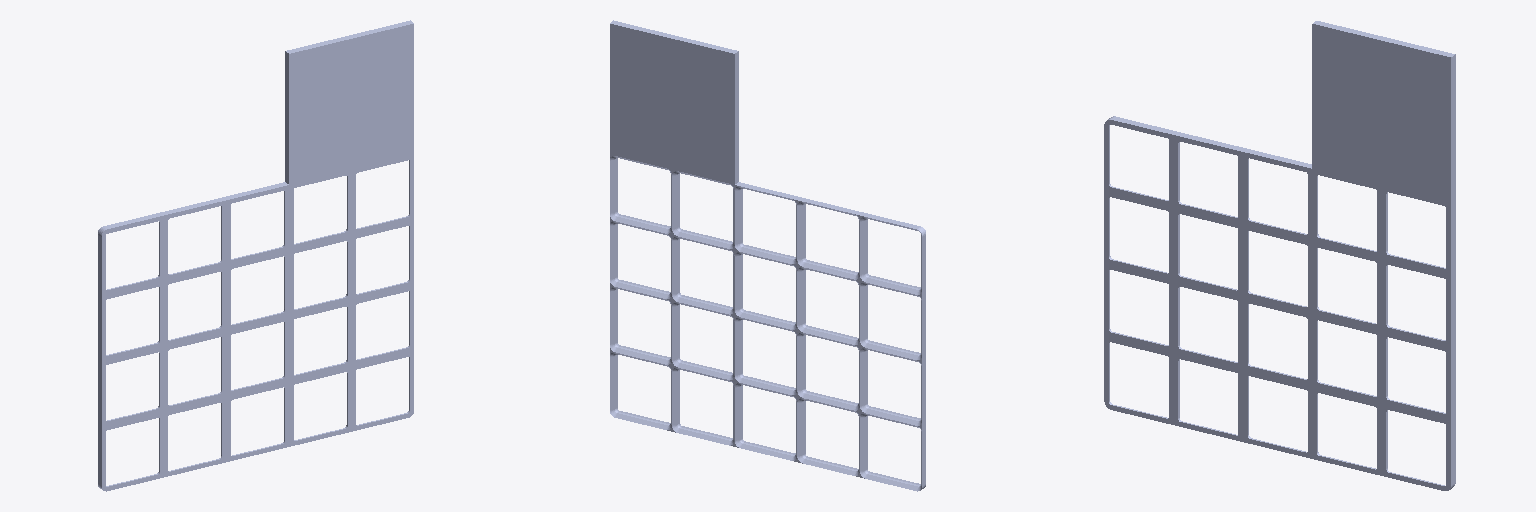
URDF robot description (bingrid):
<!--URDF generated by ONSHAPE BY PTC INC, 1.223-->
<robot name="bingrid">
    <link name="root">
        <visual>
            <origin xyz="0 0 0" rpy="0 -0 0" />
            <geometry>
                <mesh filename="package://bingrid/meshes/Part_1.stl" scale="1 1 1" />
            </geometry>
            <material name="0.792157_0.819608_0.933333_0.000000_0.000000">
                <color rgba="0.792157 0.819608 0.933333 1" />
            </material>
        </visual>
    </link>
</robot>

--- Facts derived from the render (not from the file) ---
Views: 3 orthographic renders of the robot side by side, from view 1: azimuth 30°, elevation 25°; view 2: azimuth 150°, elevation 25°; view 3: azimuth 330°, elevation 25°.
Robot: bingrid — 1 links, 0 joints (none); root link root; default pose: all joints at 0.
Links seen in each view (by area): view 1: root; view 2: root; view 3: root.
Link boxes in pixels (bbox=[...]): root: bbox=[98, 20, 413, 491]; root: bbox=[610, 20, 925, 491]; root: bbox=[1104, 21, 1455, 490].
Size in the robot's own frame: 210 by 4.65 by 252 metres.
1 mesh visuals loaded from 1 distinct referenced files (1 binary STL).
